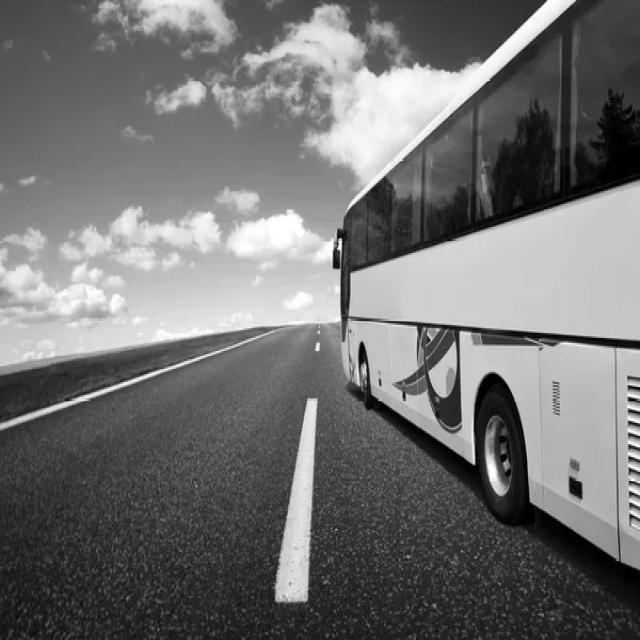Bus: (334, 2, 640, 569)
